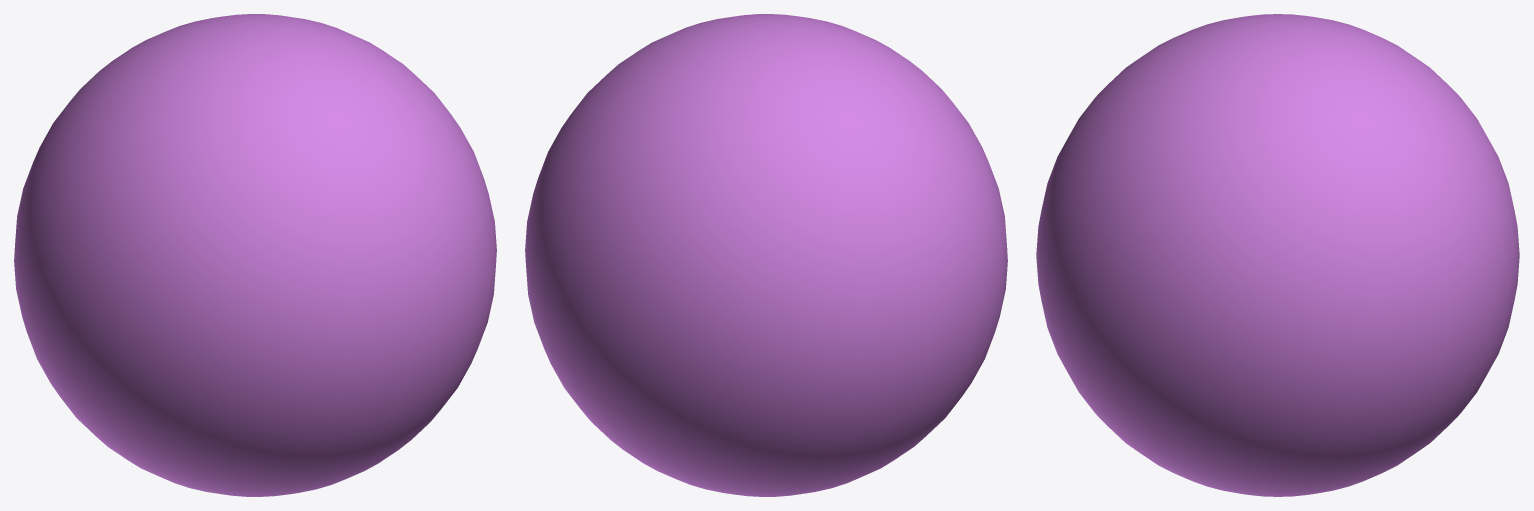
Rendered from ball.glb.
3 renders of one model, left to right at view 1: azimuth 30°, elevation 25°; view 2: azimuth 150°, elevation 25°; view 3: azimuth 270°, elevation 25°, orthographic.
Parts seen in each view (by area): view 1: Ball; view 2: Ball; view 3: Ball.
Part boxes in pixels (box(x1,y1,x2,y2)): Ball: box(14, 14, 496, 496); Ball: box(525, 14, 1007, 496); Ball: box(1036, 14, 1519, 496).
Bounding box in the file's own units: 2 × 2 × 2.
